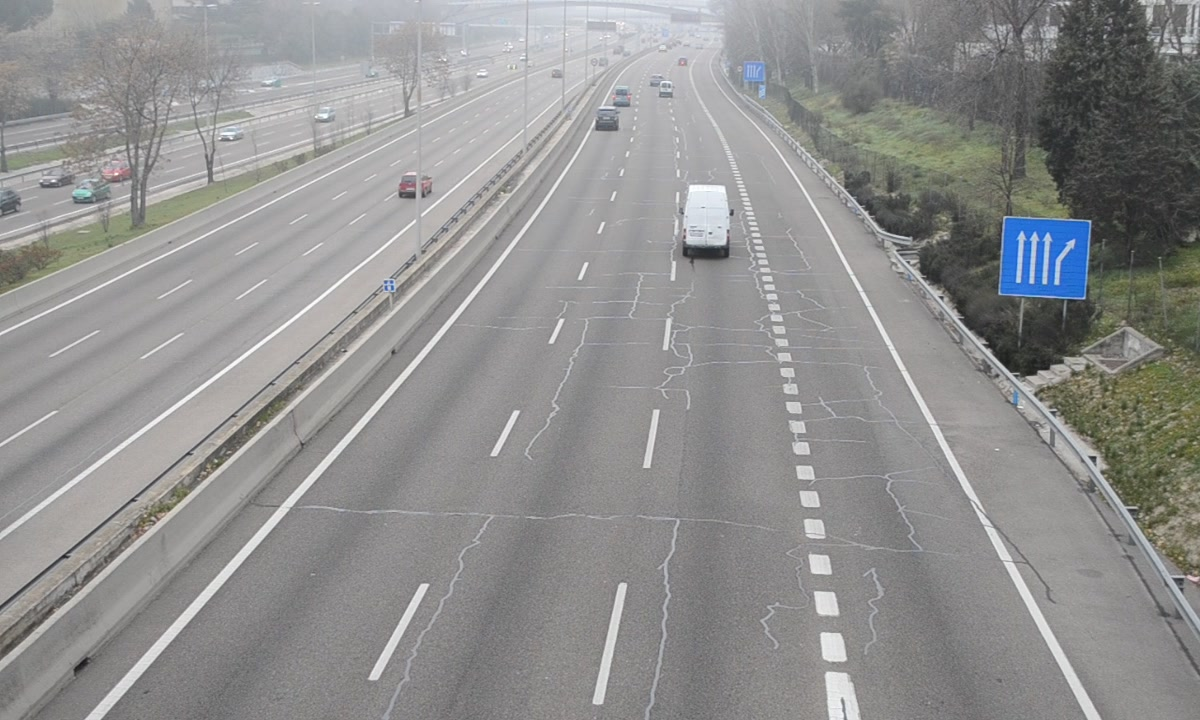car: (595, 106, 619, 130)
van: (679, 184, 733, 256)
